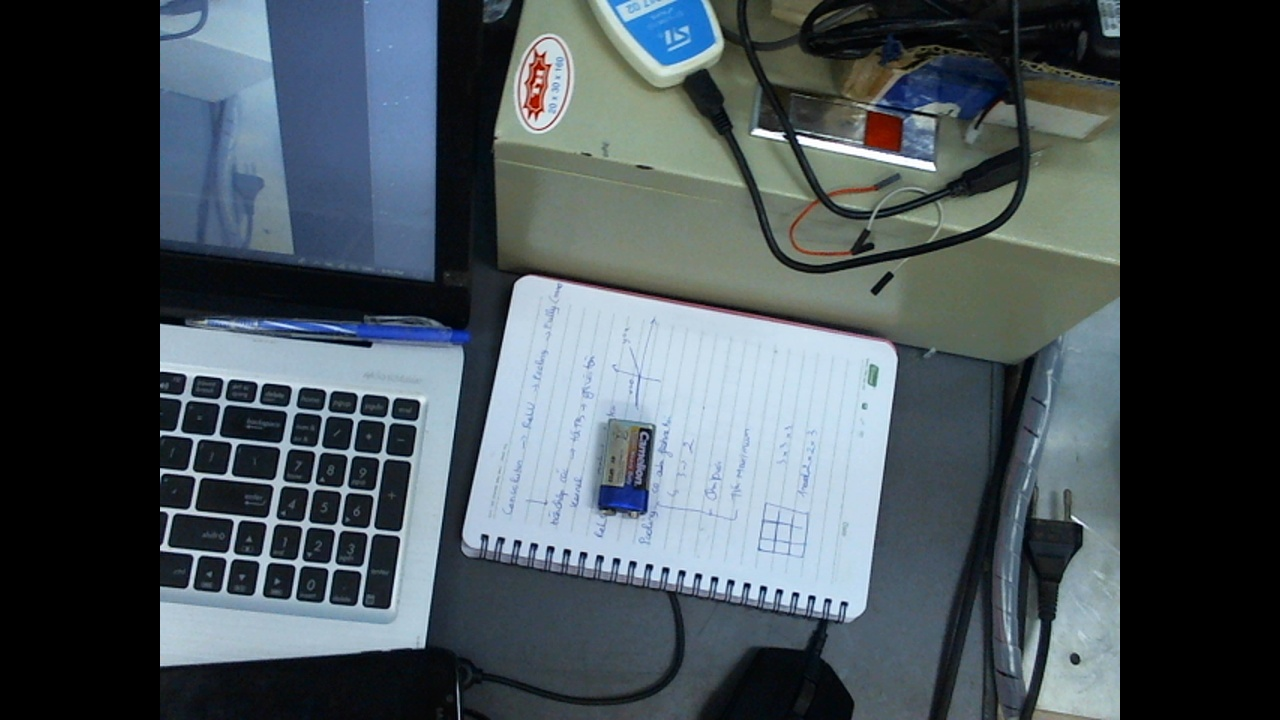battery: (596, 415, 655, 517)
